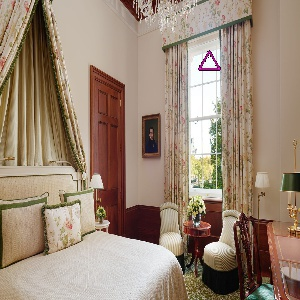triangle: (196, 49, 224, 74)
